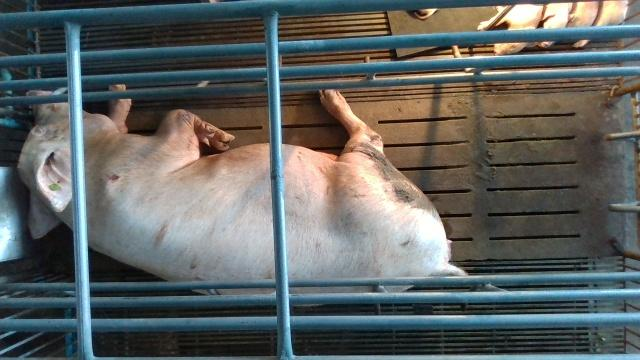piglet: (477, 4, 546, 56), (576, 0, 630, 49), (538, 3, 573, 48)
sow-sleep: (18, 82, 467, 296)
